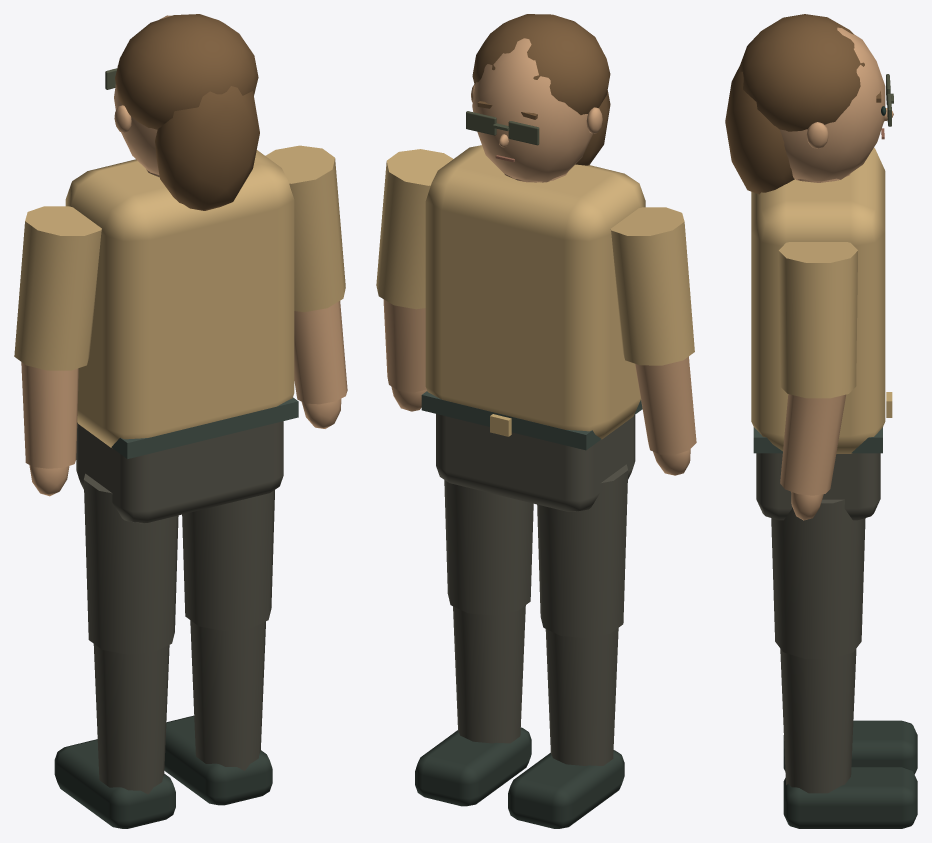
The model's file is scout-08.glb.
3 views of the same model, side by side, from view 1: azimuth 30°, elevation 25°; view 2: azimuth 150°, elevation 25°; view 3: azimuth 270°, elevation 25° (orthographic). The views are drawn at different scales.
Visible parts, largest first — view 1: Scout character 8, left-upper-arm, right-upper-arm; view 2: Scout character 8, left-upper-arm, right-upper-arm; view 3: Scout character 8, right-upper-arm.
Part boxes in pixels (x1,y1,x2,y2): Scout character 8: (54,14,298,828); left-upper-arm: (14,206,101,496); right-upper-arm: (265,145,347,428); Scout character 8: (415,14,645,828); left-upper-arm: (610,207,696,475); right-upper-arm: (376,149,453,411); Scout character 8: (725,14,917,828); right-upper-arm: (778,242,857,520).
Size of the model in its own units: 0.7284 by 1.72 by 0.3874.
